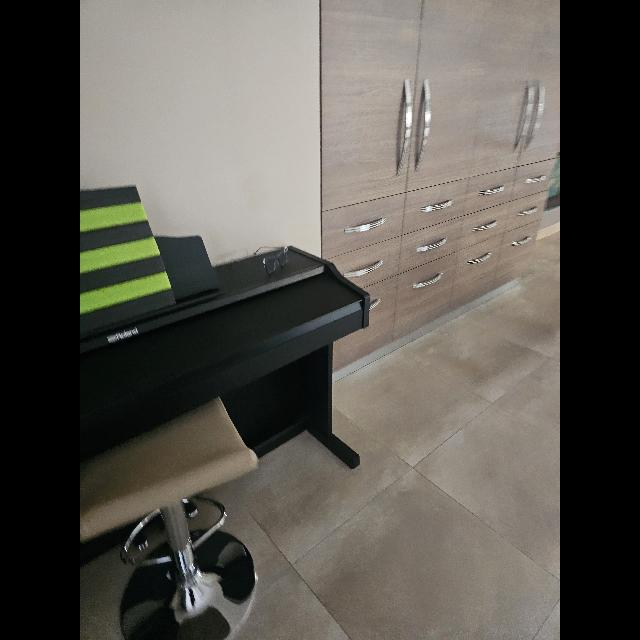glasses: (228, 246, 288, 274)
